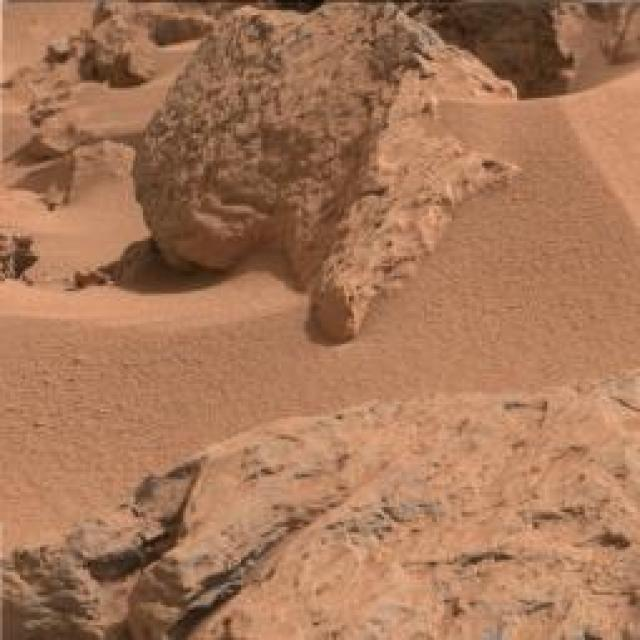rock: (0, 385, 640, 640), (131, 0, 520, 343), (418, 0, 640, 102), (90, 14, 158, 86), (146, 10, 213, 43), (85, 0, 140, 36)
